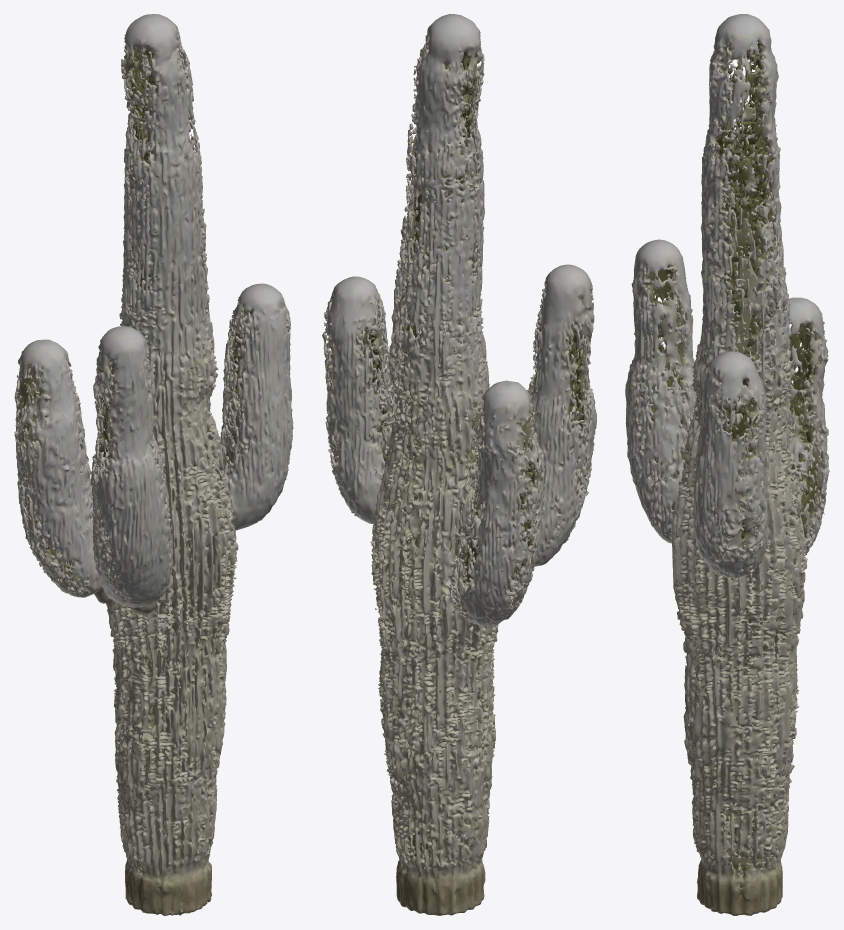
File: TC003_Trellis 2.glb
The picture shows the model from 3 angles, left to right: view 1: azimuth 30°, elevation 25°; view 2: azimuth 150°, elevation 25°; view 3: azimuth 270°, elevation 25°; orthographic projection.
Parts seen in each view (by area): view 1: world; view 2: world; view 3: world.
Part boxes in pixels (left/top/right/bottom): world: left=14, top=14, right=293, bottom=915; world: left=322, top=14, right=596, bottom=915; world: left=625, top=14, right=829, bottom=915.
Size of the model in its own units: 0.2832 by 0.9996 by 0.2114.
Materials: 1 (1 with a texture image).
